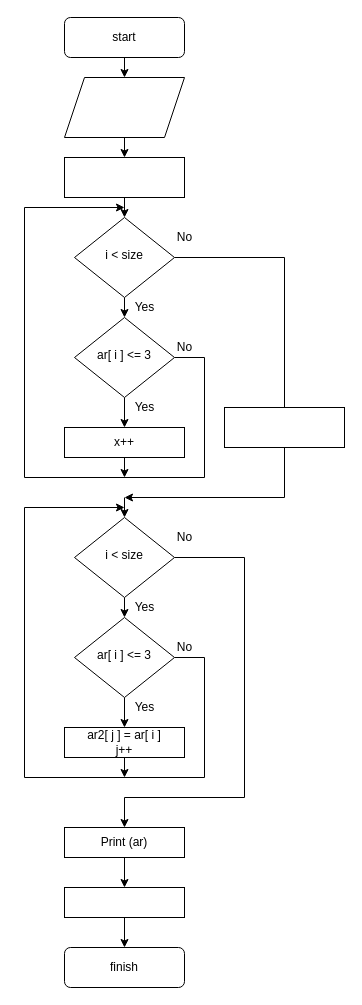
Image size: 362x1005. Some labels were removed from this diagram. The shapes that lost their labels are listed below. From the top down, each one's centre as x and y in pixels, then its label:
At (x=124, y=107): "size ar[size]".
At (x=124, y=177): "x = 0".
At (x=284, y=427): "ar2[ x ] j = 0".
At (x=124, y=902): "Print (ar2)".
